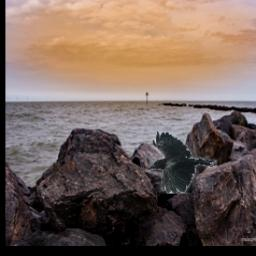Crow: (148, 132, 217, 194)
